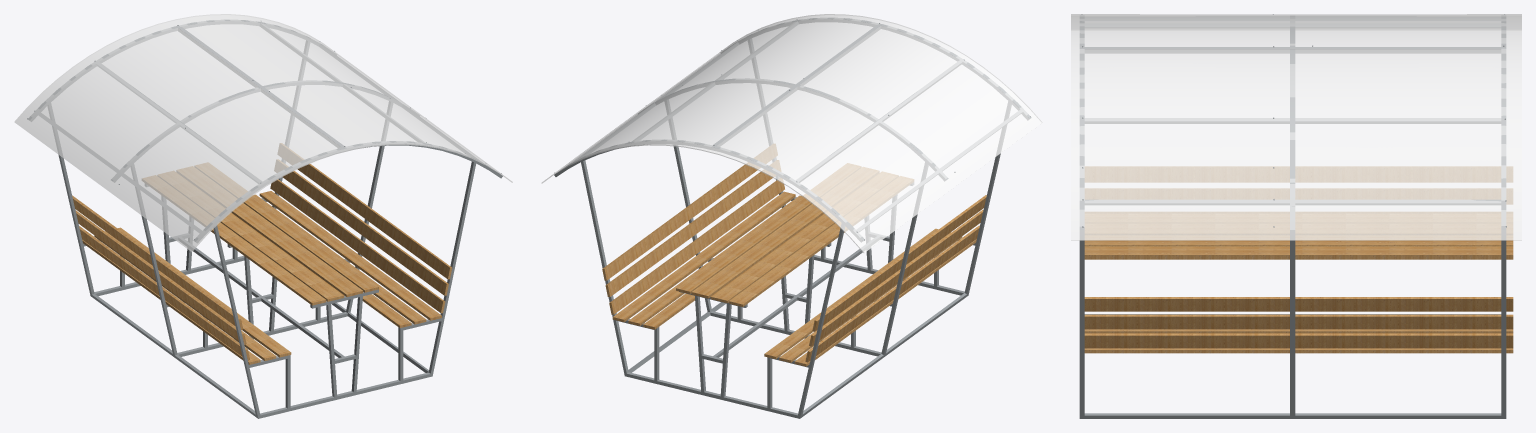
Rendered from Bes1.glb.
The picture shows the model from 3 angles, left to right: view 1: azimuth 30°, elevation 25°; view 2: azimuth 150°, elevation 25°; view 3: azimuth 270°, elevation 25°; orthographic projection. The views are drawn at different scales.
Parts seen in each view (by area): view 1: geometry-lumionModel.001, geometry-lumionModel.002, geometry-lumionModel; view 2: geometry-lumionModel.001, geometry-lumionModel.002, geometry-lumionModel; view 3: geometry-lumionModel.001, geometry-lumionModel.002, geometry-lumionModel.
Part boxes in pixels (bbox=[...]): geometry-lumionModel.001: bbox=[14, 14, 512, 251]; geometry-lumionModel.002: bbox=[72, 143, 452, 364]; geometry-lumionModel: bbox=[27, 19, 502, 418]; geometry-lumionModel.001: bbox=[541, 14, 1042, 252]; geometry-lumionModel.002: bbox=[602, 144, 986, 366]; geometry-lumionModel: bbox=[554, 17, 1031, 418]; geometry-lumionModel.001: bbox=[1071, 14, 1521, 240]; geometry-lumionModel.002: bbox=[1084, 166, 1513, 353]; geometry-lumionModel: bbox=[1079, 14, 1506, 418].
Size of the model in its own units: 2.76 by 2.05 by 2.63.
4 materials, 1 textured.
